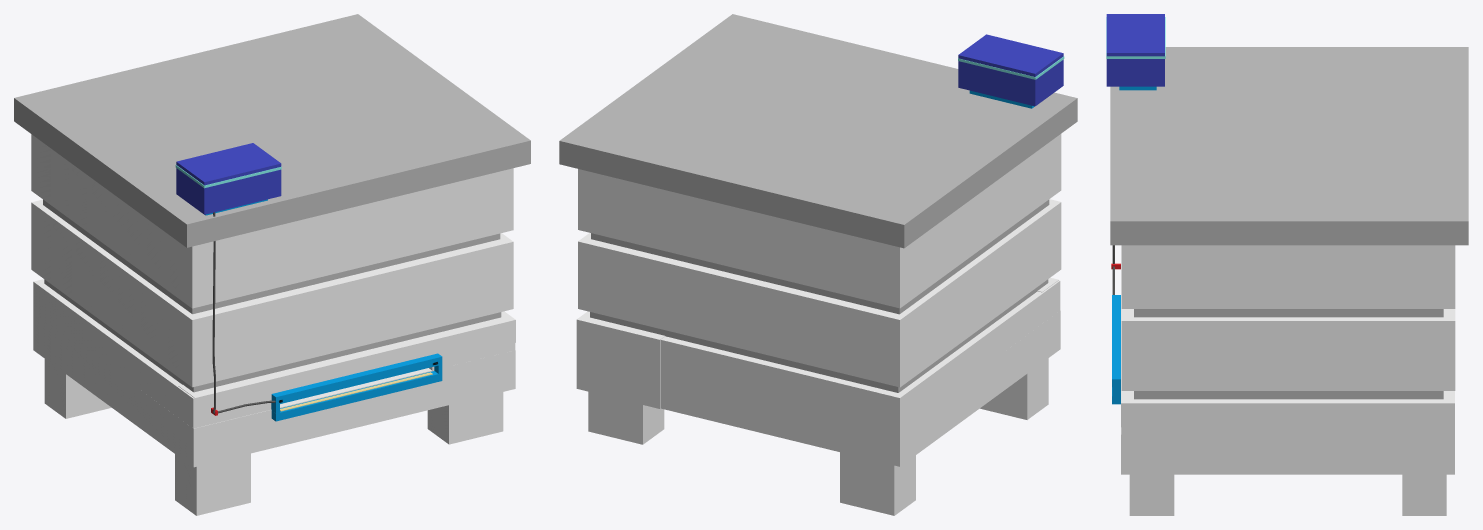
File: hive.glb
3 renders of one model, left to right at view 1: azimuth 30°, elevation 25°; view 2: azimuth 150°, elevation 25°; view 3: azimuth 270°, elevation 25°, orthographic. The views are drawn at different scales.
Visible parts, largest first — view 1: mesh_id65, mesh_id33, mesh_id46, mesh_id99, mesh_id156, mesh_id177, mesh_id168, mesh_id140, mesh_id40, mesh_id117, mesh_id55, mesh_id56 (+5 smaller); view 2: mesh_id65, mesh_id33, mesh_id46, mesh_id99, mesh_id168, mesh_id55, mesh_id150, mesh_id177, mesh_id123, mesh_id40, mesh_id105, mesh_id56 (+1 smaller); view 3: mesh_id65, mesh_id33, mesh_id46, mesh_id168, mesh_id99, mesh_id150, mesh_id177, mesh_id40, mesh_id56, mesh_id117, mesh_id105, mesh_id156 (+1 smaller).
Part boxes in pixels (x1,y1,x2,y2): mesh_id65: (14, 14, 530, 247); mesh_id33: (31, 199, 513, 387); mesh_id46: (31, 134, 513, 308); mesh_id99: (33, 312, 515, 467); mesh_id156: (178, 311, 515, 420); mesh_id177: (176, 143, 281, 214); mesh_id168: (33, 279, 144, 388); mesh_id140: (175, 453, 250, 515); mesh_id40: (43, 199, 500, 314); mesh_id117: (427, 392, 503, 444); mesh_id55: (138, 357, 271, 428); mesh_id56: (44, 279, 501, 392); mesh_id65: (559, 14, 1077, 248); mesh_id33: (578, 199, 1061, 387); mesh_id46: (578, 134, 1061, 308); mesh_id99: (660, 311, 1060, 466); mesh_id168: (660, 319, 1005, 427); mesh_id55: (816, 280, 1060, 465); mesh_id150: (576, 311, 664, 408); mesh_id177: (958, 34, 1063, 106); mesh_id123: (840, 452, 915, 515); mesh_id40: (591, 199, 1049, 314); mesh_id105: (588, 391, 664, 444); mesh_id56: (590, 279, 1048, 392); mesh_id65: (1110, 47, 1468, 245); mesh_id33: (1121, 309, 1455, 390); mesh_id46: (1121, 245, 1455, 308); mesh_id168: (1234, 403, 1453, 474); mesh_id99: (1121, 427, 1453, 474); mesh_id150: (1121, 361, 1454, 474); mesh_id177: (1106, 14, 1164, 86); mesh_id40: (1134, 309, 1443, 317); mesh_id56: (1134, 391, 1443, 399); mesh_id117: (1129, 474, 1174, 515); mesh_id105: (1402, 474, 1446, 515); mesh_id156: (1121, 245, 1155, 427).
Bounding box in the file's own units: 0.1811 × 0.1725 × 0.1594.
Materials: 15 (15 with a texture image).
